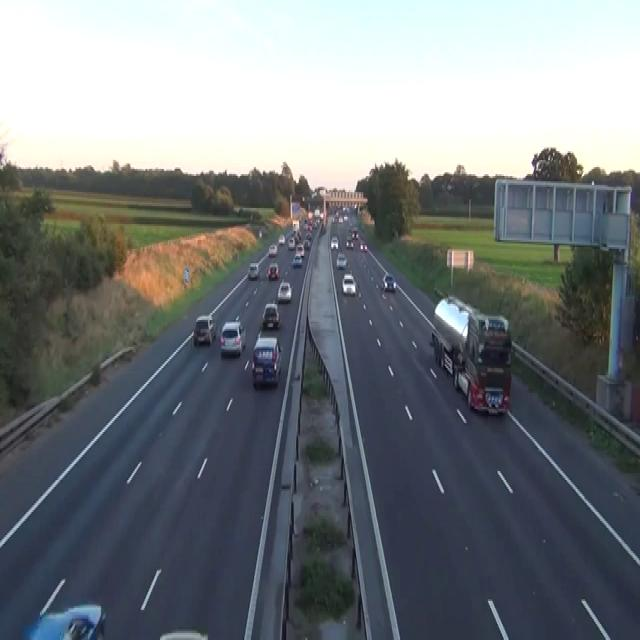Car: (22, 578, 106, 638), (453, 348, 512, 414), (251, 336, 282, 388), (220, 320, 246, 357), (193, 315, 216, 345), (261, 302, 280, 329), (159, 628, 208, 638), (341, 272, 356, 295), (277, 281, 292, 302), (381, 272, 396, 292), (247, 261, 259, 279), (266, 263, 279, 279), (336, 250, 347, 268), (291, 252, 302, 266), (330, 235, 338, 249), (296, 244, 304, 258), (268, 244, 277, 256), (345, 236, 353, 249), (287, 236, 295, 249), (278, 233, 285, 245), (351, 226, 358, 238), (303, 238, 310, 249), (359, 242, 367, 250), (233, 204, 240, 213), (312, 218, 318, 228), (446, 182, 453, 190), (321, 222, 326, 233), (331, 215, 337, 222), (258, 228, 262, 238), (343, 214, 348, 222), (338, 215, 343, 222), (319, 212, 323, 220)
Truck: (430, 294, 512, 414)
